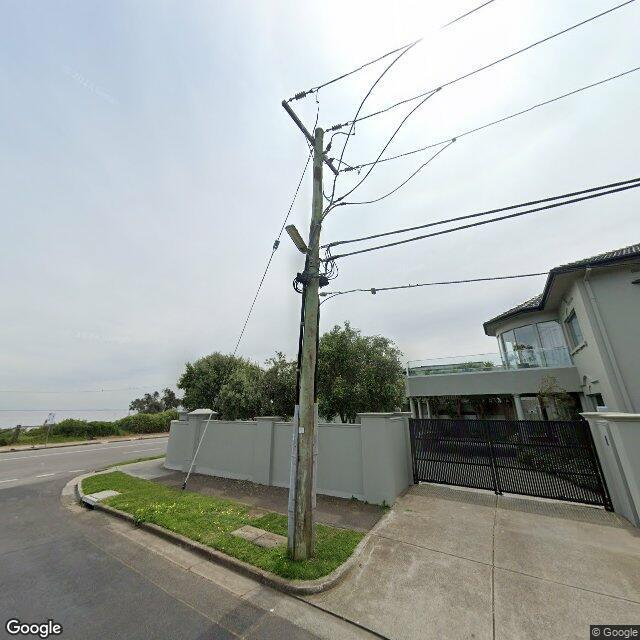HV-transmission: (282, 85, 366, 175)
crossarm: (280, 100, 338, 174)
streetlight: (284, 224, 314, 260)
timber-pole: (286, 128, 324, 560)
